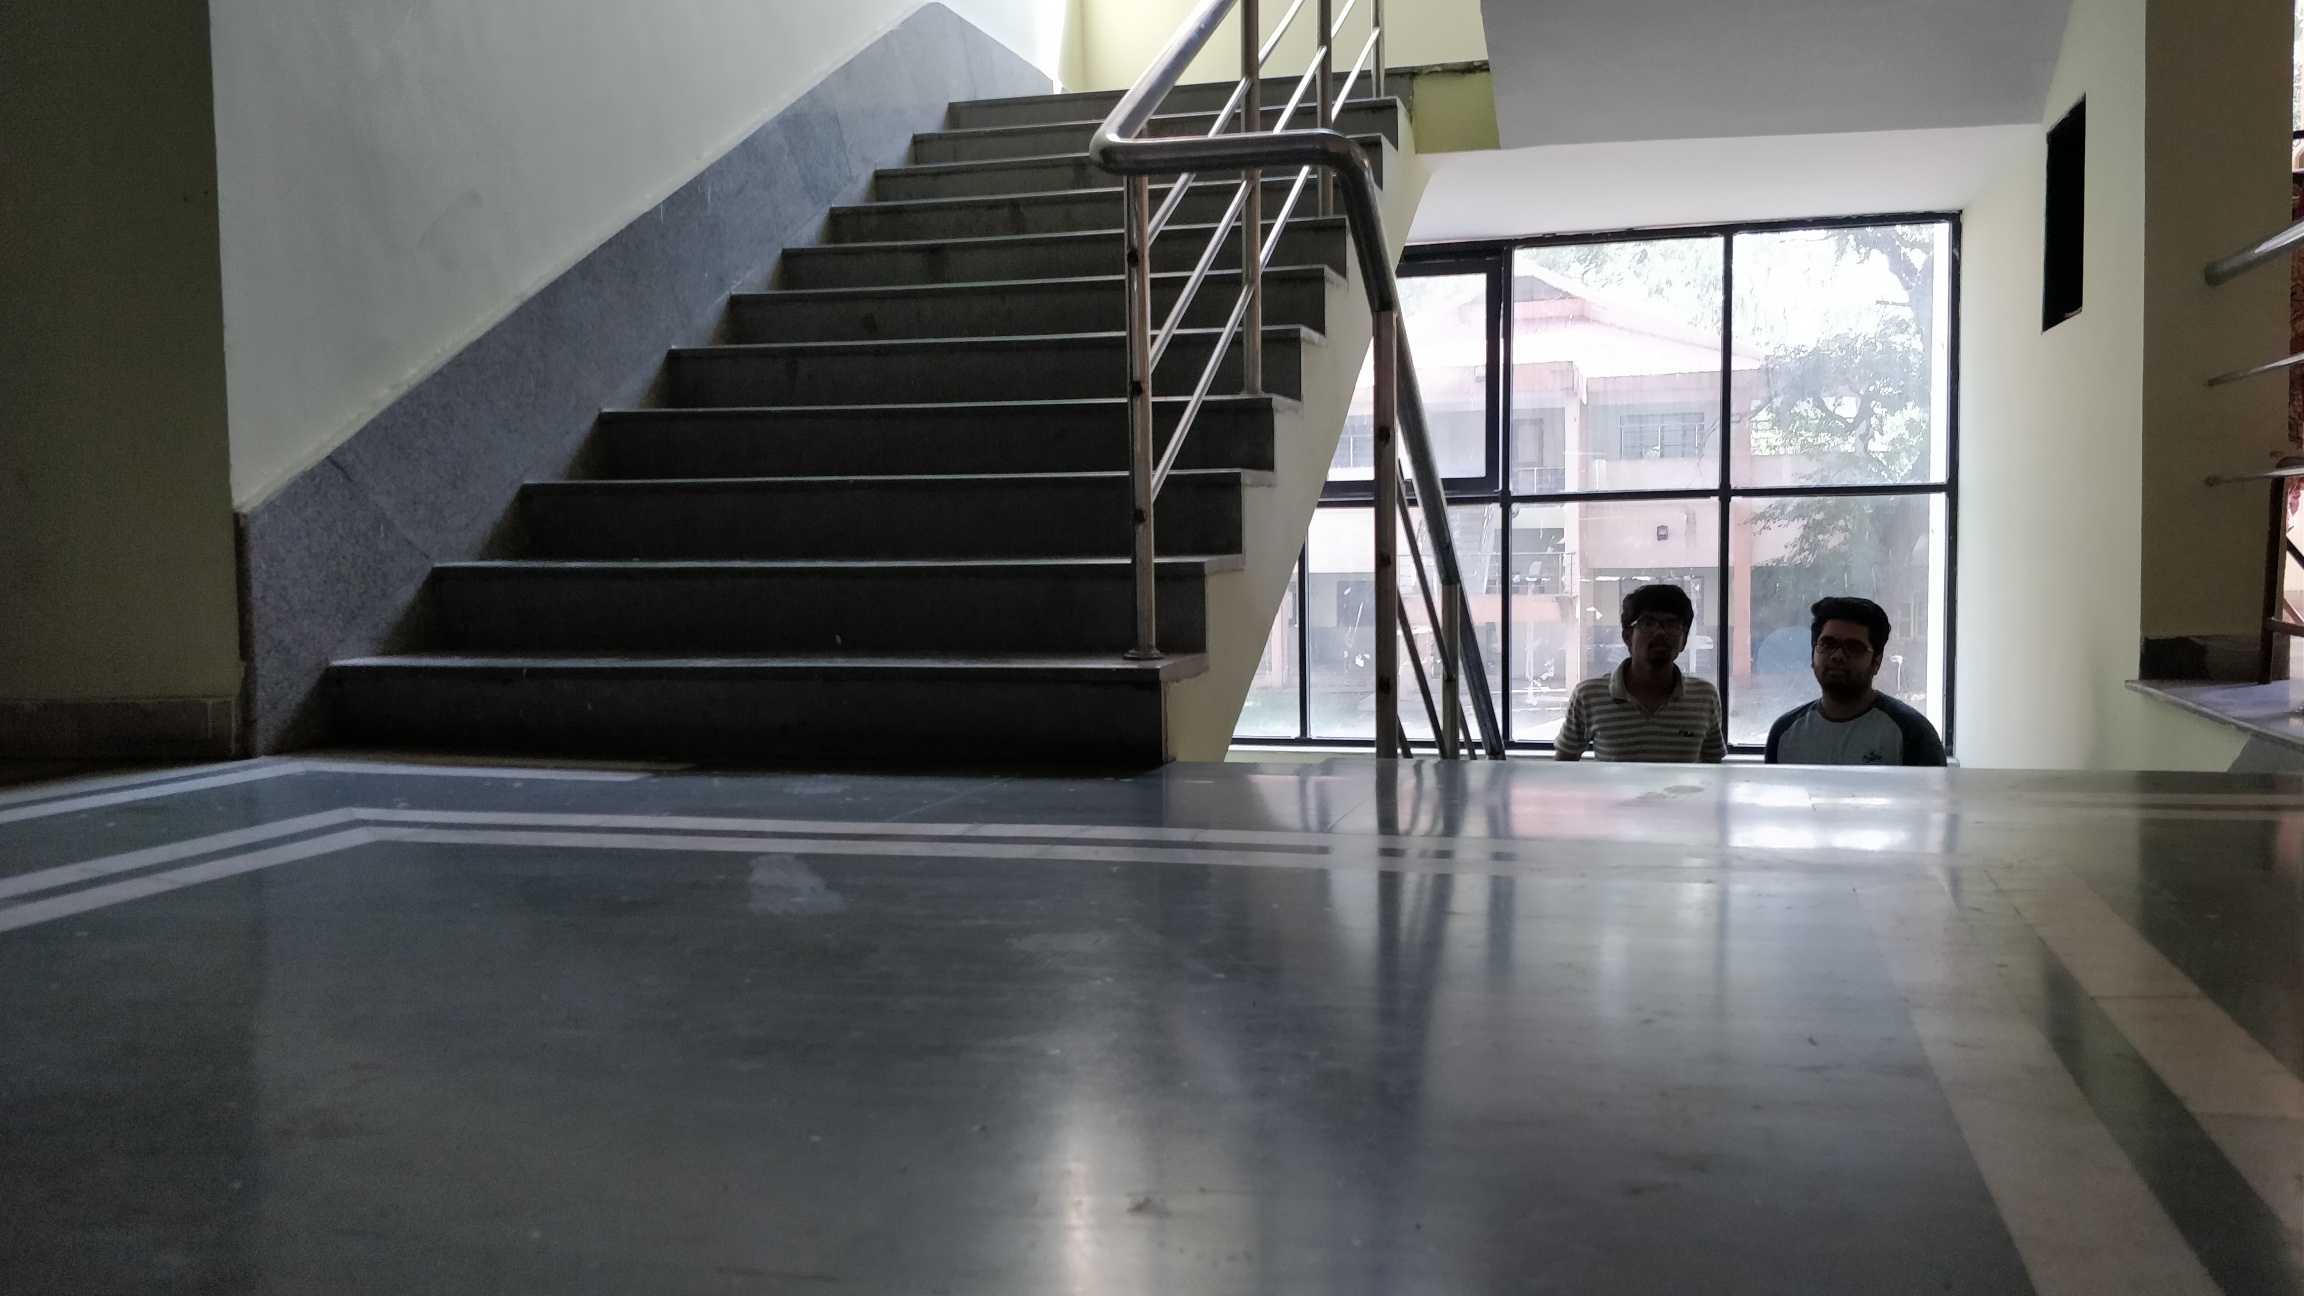stairs_up: (335, 66, 1400, 771)
